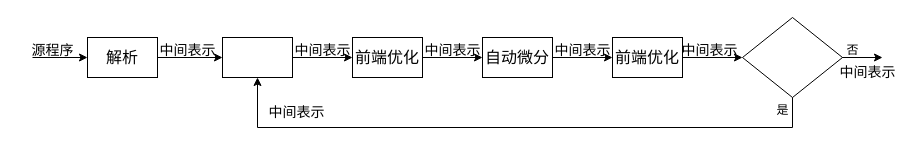
Some shapes in this 924 by 153 pixel diagram are drawn without their labels. Each missing label, with the centre of its shape:
是否 继续 优化: [792,57]
静态分析: [257,57]
